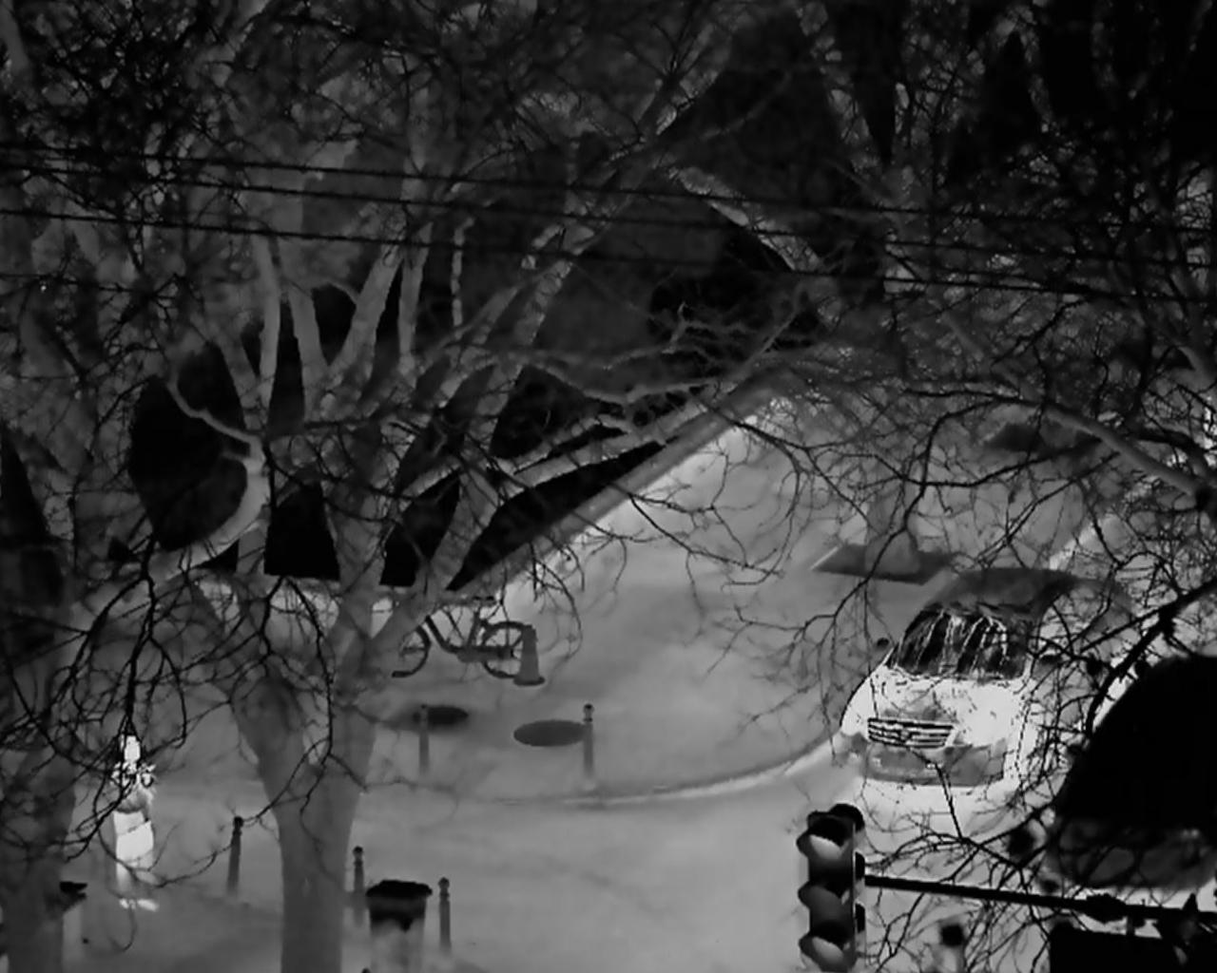person: (109, 729, 160, 913)
